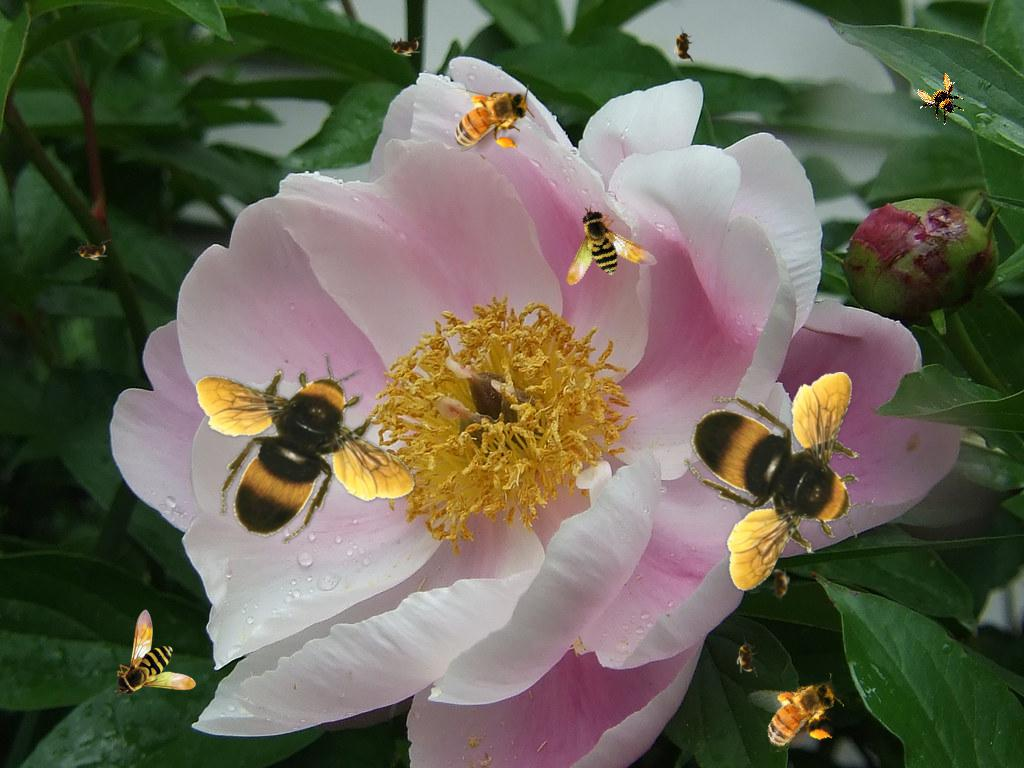Bee: (684, 372, 875, 592), (196, 353, 416, 544), (557, 203, 669, 311), (745, 671, 851, 756), (114, 609, 196, 697), (442, 84, 535, 152), (910, 69, 972, 131), (673, 26, 695, 66), (768, 564, 790, 604), (71, 239, 111, 261), (384, 35, 424, 57), (736, 637, 758, 677)
